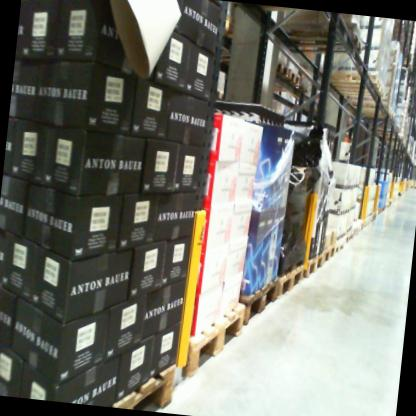pallet: (174, 294, 245, 381), (278, 17, 367, 66), (228, 267, 282, 341), (107, 357, 177, 412), (322, 66, 383, 97), (275, 259, 305, 299), (265, 65, 302, 97), (338, 83, 389, 103), (299, 249, 324, 279), (270, 55, 291, 79), (319, 240, 336, 264), (332, 237, 346, 254)
